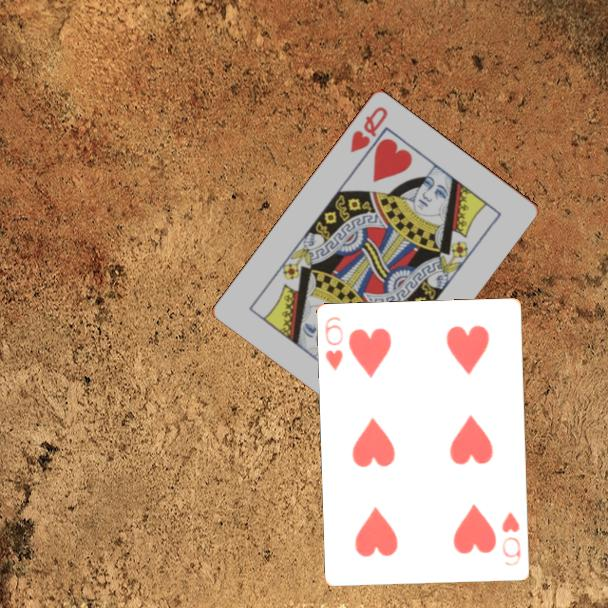h06: (498, 508, 524, 569), (322, 314, 347, 374)
h12: (347, 102, 391, 155)
